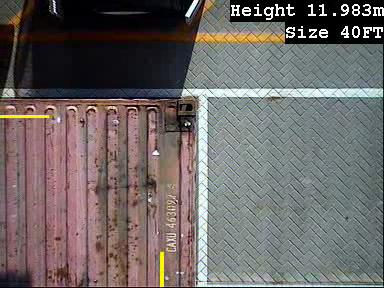groundmarker_2: (185, 149, 231, 179)
